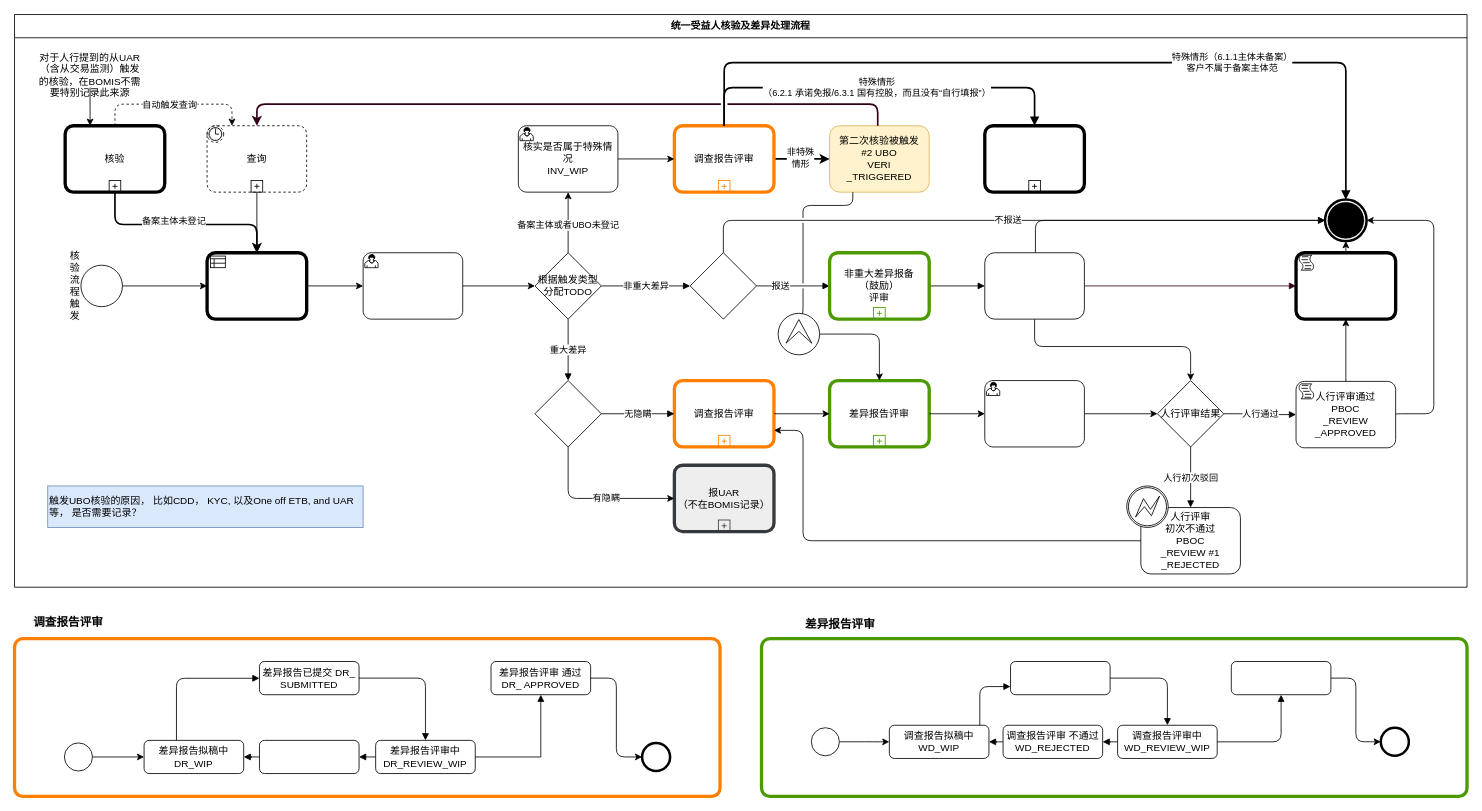
The diagram is 1482 pixels wide and 811 high, and some of its shapes have lost their labels. The shapes that lost their labels are listed below. From the top down, each one's box as (x1, y1, x2, y2) in pixels, then its label:
(984, 125, 1084, 192): 发送主题信息补充报文
(206, 252, 307, 319): 自动创建代办事项 CREATED
(362, 252, 463, 319): 待办事项已分配 Task ASSIGNED
(689, 252, 757, 319): 是否报送人行?
(984, 252, 1084, 319): 差异报告已提交人行 (非重大) DR_to_PBOC _SUBMITTED
(1295, 252, 1396, 319): 报告已归档 (报送) DR_in FileNet _ARCHIVED
(534, 380, 601, 447): 客户是否存在故意隐瞒?
(984, 380, 1084, 447): 差异报告 已提交人行 DR_to_PBOC _SUBMITTED
(1010, 661, 1110, 695): 调查报告已提交 WD_ SUBMITTED
(1230, 661, 1331, 695): 调查报告评审 通过 WD_ APPROVED
(259, 740, 359, 774): 差异报告评审 不通过 DR_REJECTED
